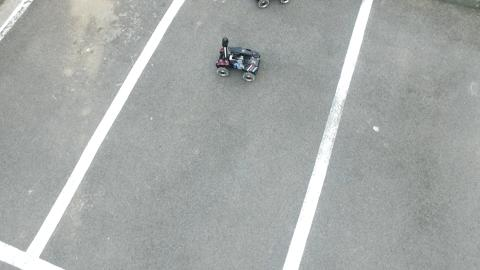chariot: (210, 33, 266, 87)
